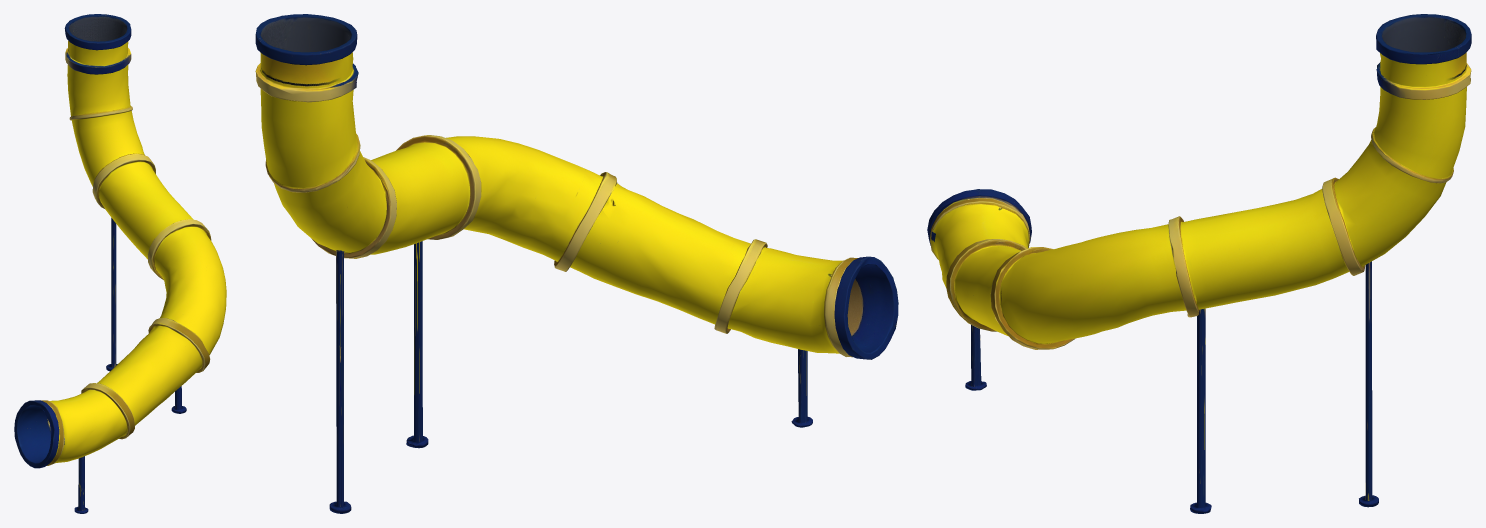
The model's file is slide-yellow.glb.
3 renders of one model, left to right at view 1: azimuth 30°, elevation 25°; view 2: azimuth 150°, elevation 25°; view 3: azimuth 270°, elevation 25°, orthographic. The views are drawn at different scales.
Size of the model in its own units: 0.7324 by 0.9072 by 0.9438.
1 material, 1 textured.
